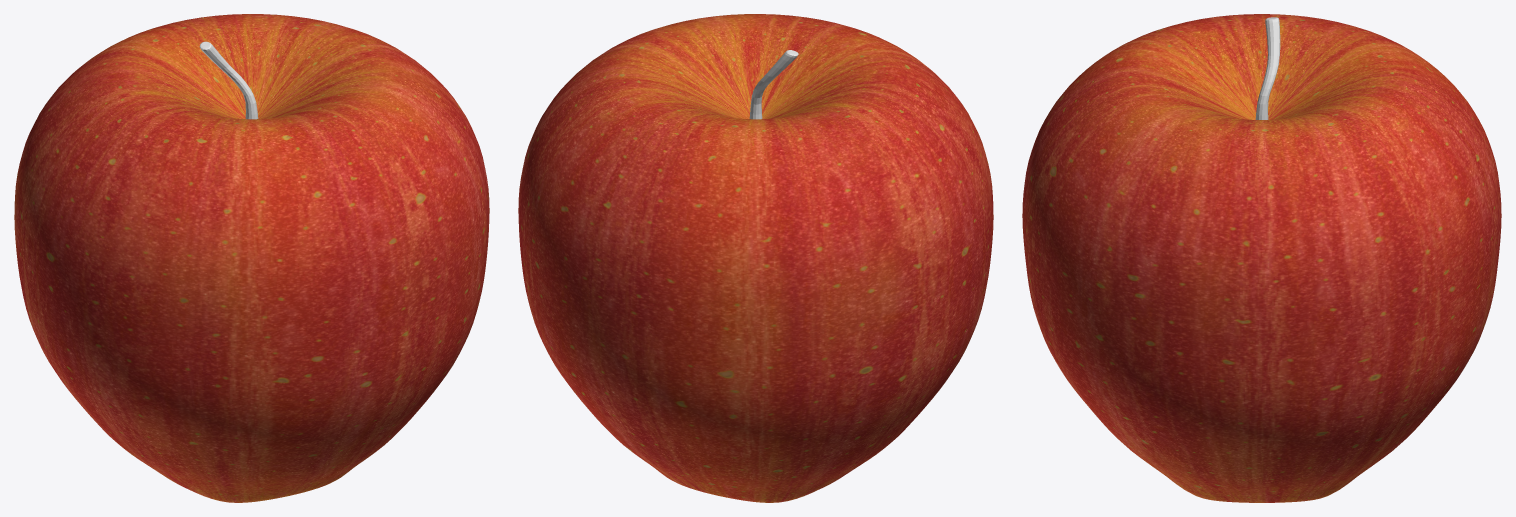
File: apple.fbx
3 views of the same model, side by side, from view 1: azimuth 30°, elevation 25°; view 2: azimuth 150°, elevation 25°; view 3: azimuth 270°, elevation 25° (orthographic).
Visible parts, largest first — view 1: Sphere, Circle; view 2: Sphere, Circle; view 3: Sphere, Circle.
Part boxes in pixels (bbox=[...]): Sphere: bbox=[14, 14, 489, 502]; Circle: bbox=[199, 41, 258, 119]; Sphere: bbox=[518, 14, 993, 502]; Circle: bbox=[749, 50, 798, 119]; Sphere: bbox=[1022, 14, 1501, 502]; Circle: bbox=[1255, 17, 1280, 119].
Size of the model in its own units: 197 by 198 by 197.
3 materials, 1 textured.
